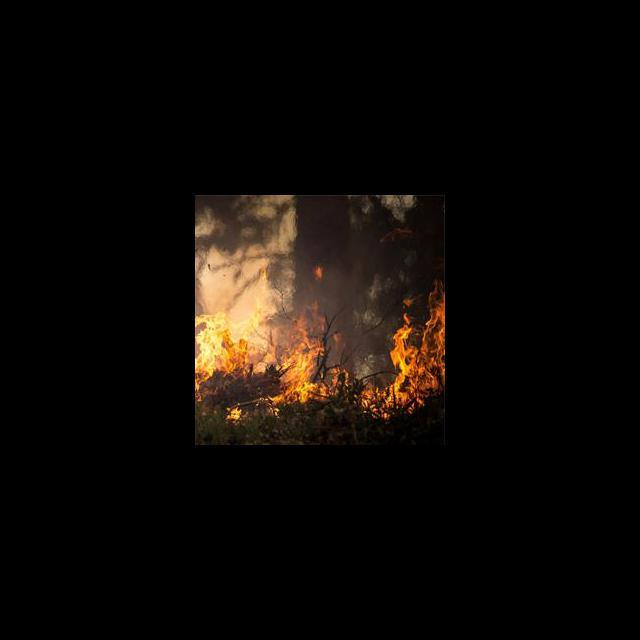Fire: (195, 269, 444, 423)
